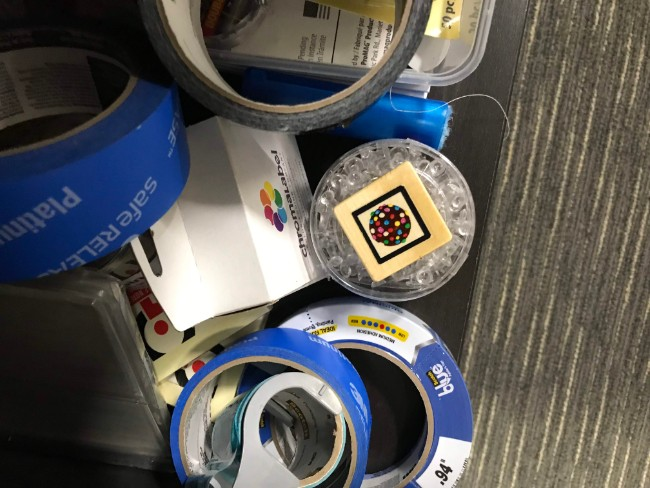cookie: (332, 158, 450, 285)
